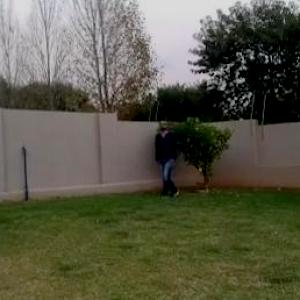follow: (158, 116, 179, 201)
